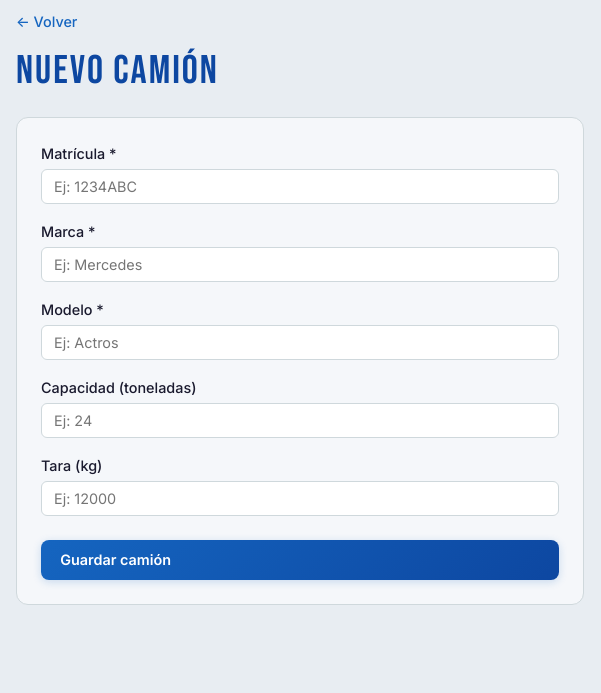
Test case: CamionFormPage › shows validation errors on empty submit
This screenshot has width=601, height=693.
Click the button "Guardar camión" at (116, 559), box [41,540,559,580]
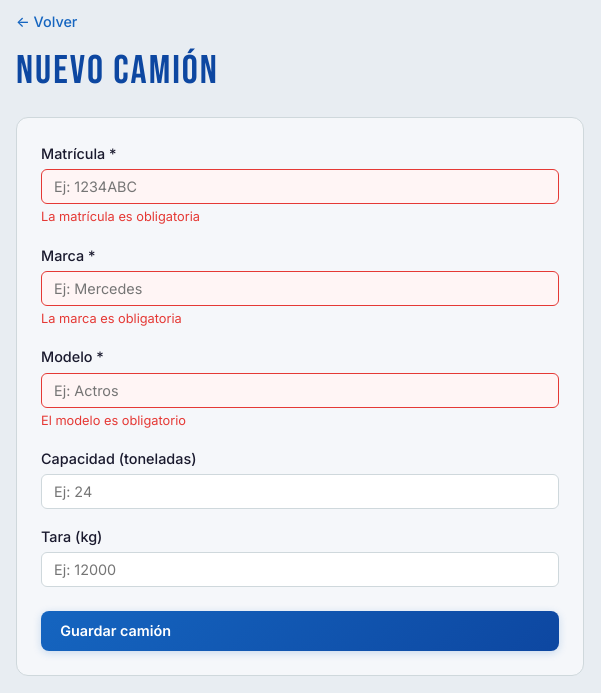
Check: the text "La matrícula es obligatoria" is shown, box [41,209,200,224]
Check: the text "La marca es obligatoria" is shown, box [41,311,182,326]
Check: the text "El modelo es obligatorio" is shown, box [41,413,186,428]
